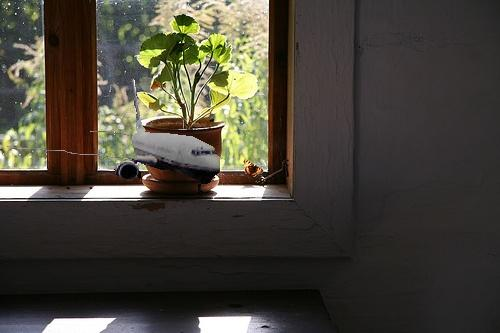tampered: (8, 80, 220, 193)
